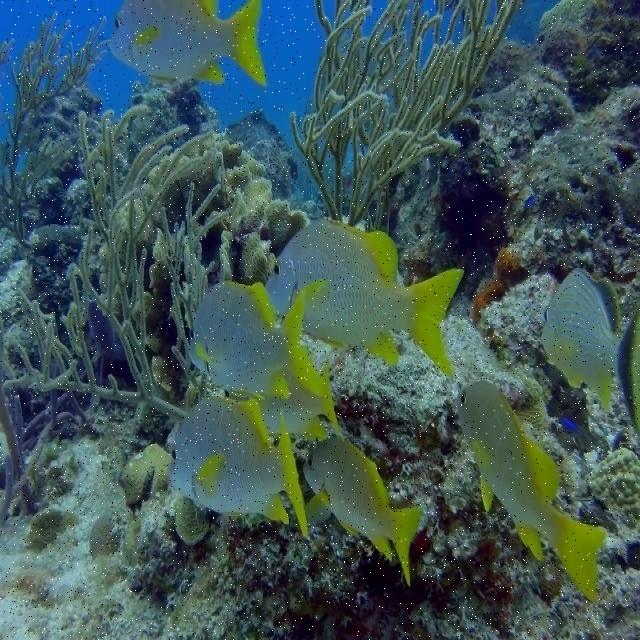aquatic plants: (0, 105, 226, 422), (288, 1, 519, 226), (0, 14, 111, 236)
fish: (458, 382, 605, 602), (269, 221, 463, 380), (167, 397, 311, 543), (188, 280, 328, 398), (306, 440, 420, 583), (542, 265, 639, 432), (109, 0, 268, 88), (257, 359, 343, 438)
